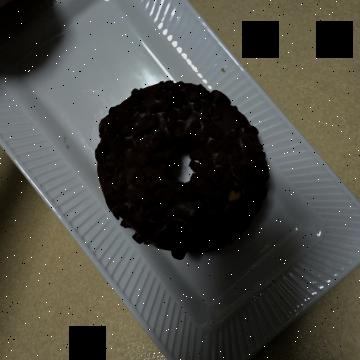doughnut: (64, 67, 274, 264)
